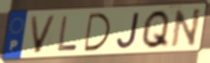D: (83, 12, 113, 53)
J: (115, 11, 141, 50)
L: (57, 15, 80, 52)
N: (170, 7, 203, 49)
Q: (140, 8, 172, 50)
V: (28, 14, 58, 55)
